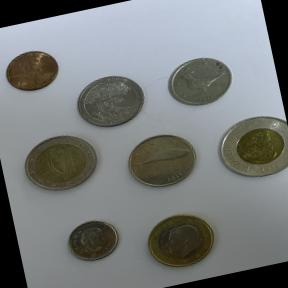1 Euro-B: (132, 199, 230, 278)
2 Euro-B: (12, 125, 106, 204)
Canada-10cent-B: (57, 210, 128, 272)
Canada-2Dollar-B: (205, 101, 288, 189)
Croatia-2Kune-B: (114, 121, 209, 200)
US-1cent-B: (0, 38, 67, 104)
US-25cent-B: (68, 65, 156, 137)
